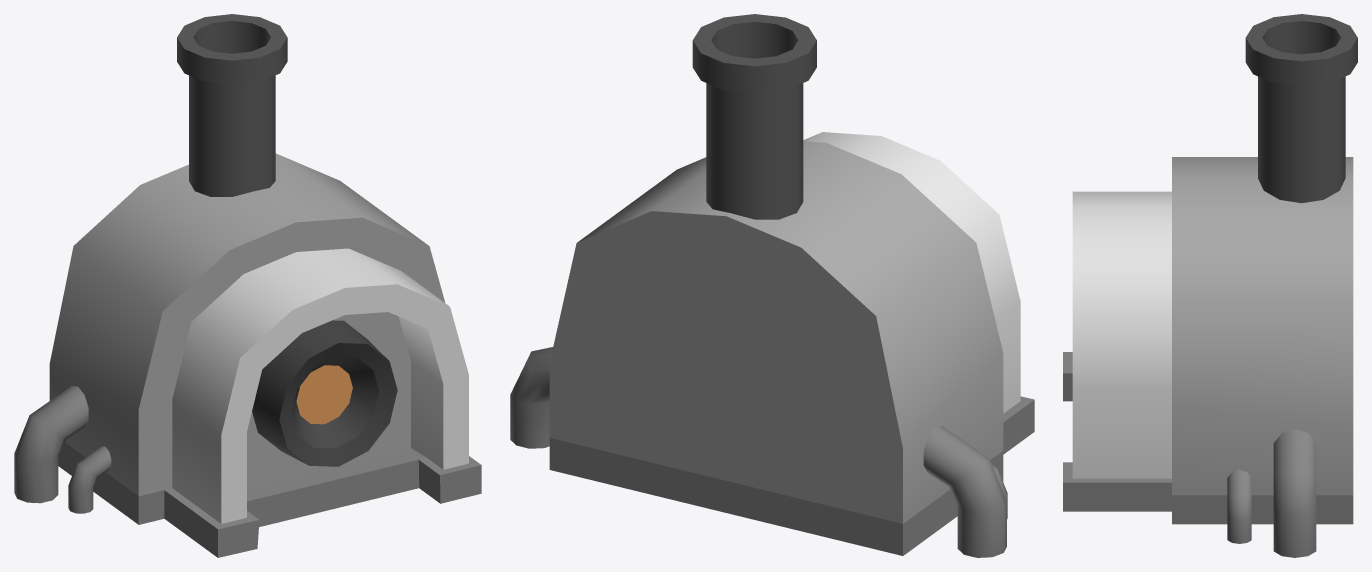
File: furnace.fbx
3 views of the same model, side by side, from view 1: azimuth 30°, elevation 25°; view 2: azimuth 150°, elevation 25°; view 3: azimuth 270°, elevation 25° (orthographic). The views are drawn at different scales.
Parts seen in each view (by area): view 1: pCube1, pCylinder3, pCylinder1, pCylinder2; view 2: pCube1, pCylinder3, pCylinder1; view 3: pCube1, pCylinder3, pCylinder1, pCylinder2.
Boxes of the visible parts, bbox=[...] form: pCube1: bbox=[49, 153, 481, 557]; pCylinder3: bbox=[177, 14, 287, 196]; pCylinder1: bbox=[14, 386, 88, 503]; pCylinder2: bbox=[68, 446, 111, 513]; pCube1: bbox=[549, 132, 1034, 555]; pCylinder3: bbox=[692, 14, 816, 219]; pCylinder1: bbox=[510, 347, 1006, 557]; pCube1: bbox=[1063, 157, 1353, 524]; pCylinder3: bbox=[1245, 14, 1357, 203]; pCylinder1: bbox=[1273, 429, 1316, 557]; pCylinder2: bbox=[1227, 469, 1251, 543].
Size of the model in its own units: 22.91 by 20.35 by 13.19.
